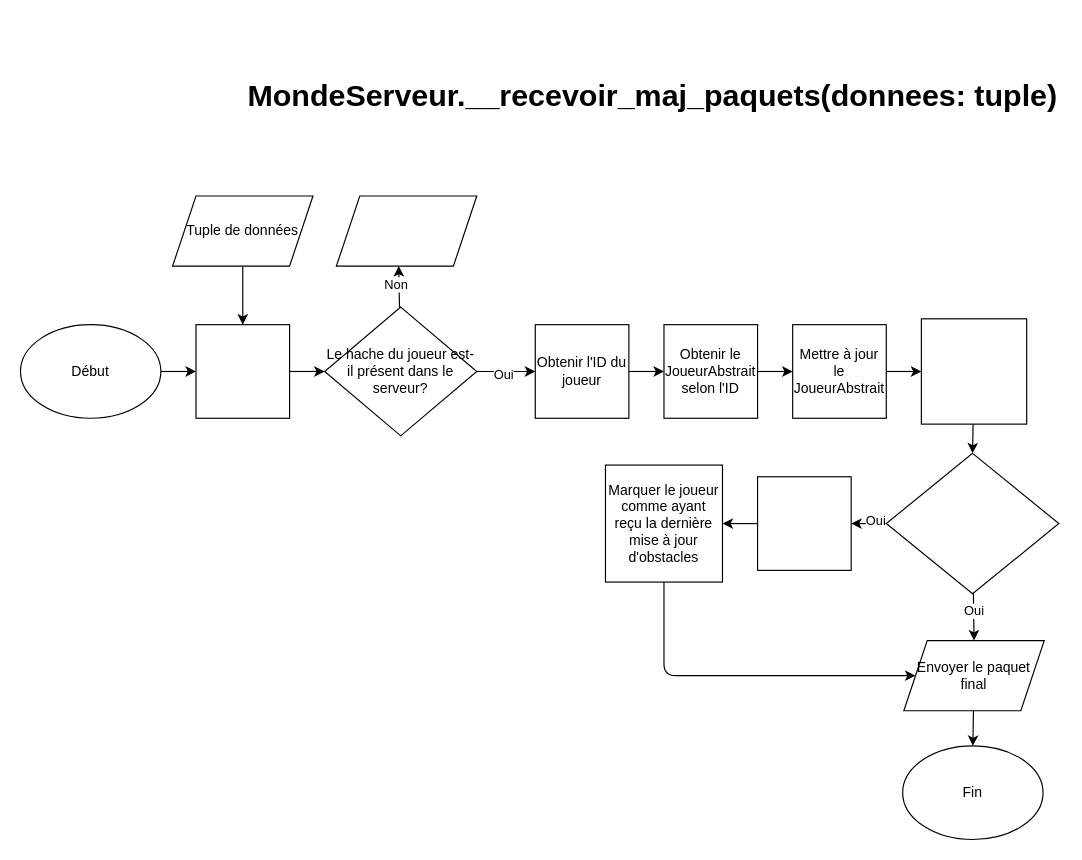
Image size: 1082x860. Some labels were removed from this diagram. The centre of each missing label's shape, as x and y in pixels:
"Ajouteur les paquets d'obstacles au paquet final" belongs at point 803,523.
"Créer le paquet contenant les informations de tous les joueurs au paquet final" belongs at point 973,371.
"Envoyer un paquet de déconnexion" belongs at point 406,230.
"Le joueur a-t-il reçu le dernier paquet de mise à jour d'obstacles?" belongs at point 972,523.
"Obtenir l'information du joueur" belongs at point 242,371.
